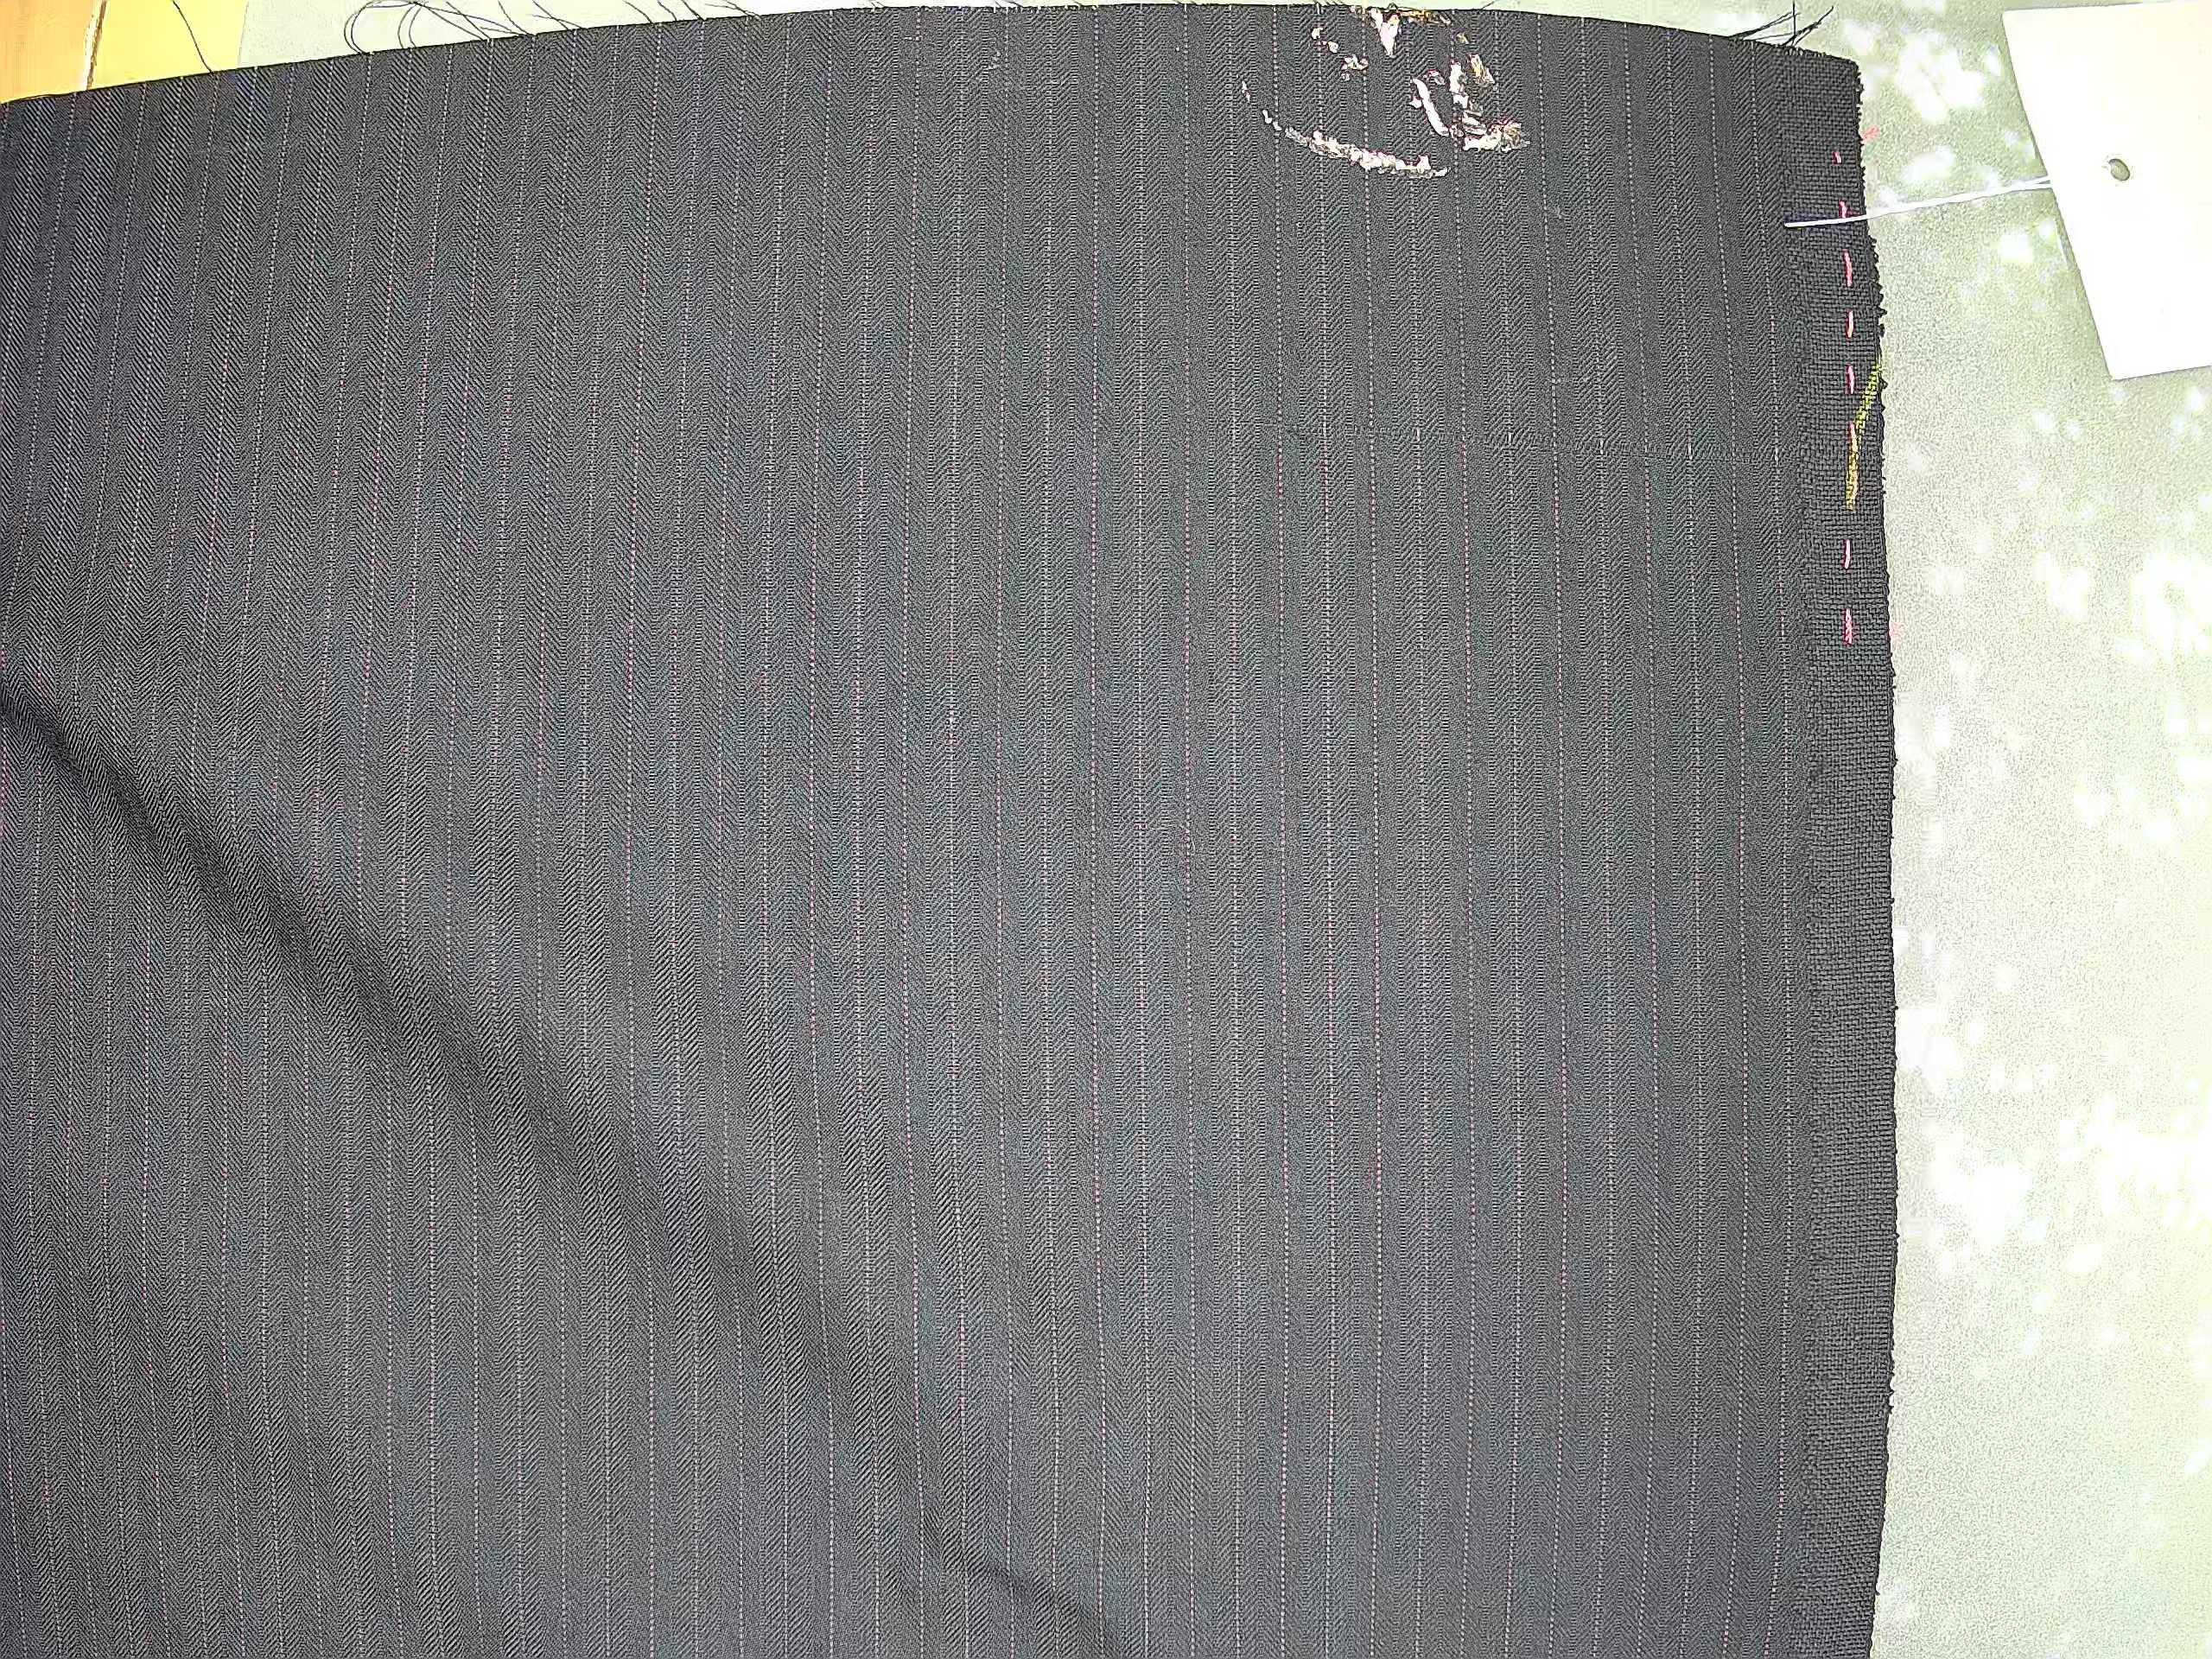thin-spinning: (1264, 399, 1836, 486)
